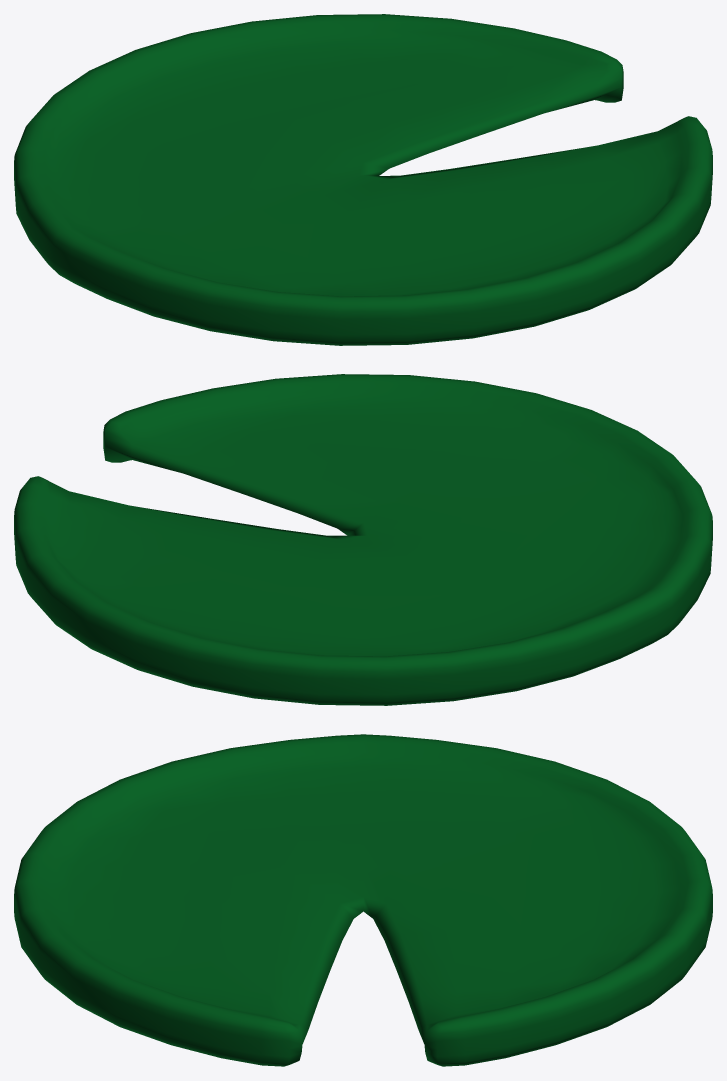
File: Lillypad.fbx
3 views of the same model, one above another, from view 1: azimuth 30°, elevation 25°; view 2: azimuth 150°, elevation 25°; view 3: azimuth 270°, elevation 25° (orthographic).
Parts seen in each view (by area): view 1: Cube; view 2: Cube; view 3: Cube.
Part boxes in pixels (left/top/right/bottom): Cube: left=14, top=14, right=712, bottom=345; Cube: left=14, top=374, right=712, bottom=705; Cube: left=14, top=734, right=712, bottom=1066.
Size of the model in its own units: 681 by 48.6 by 680.
